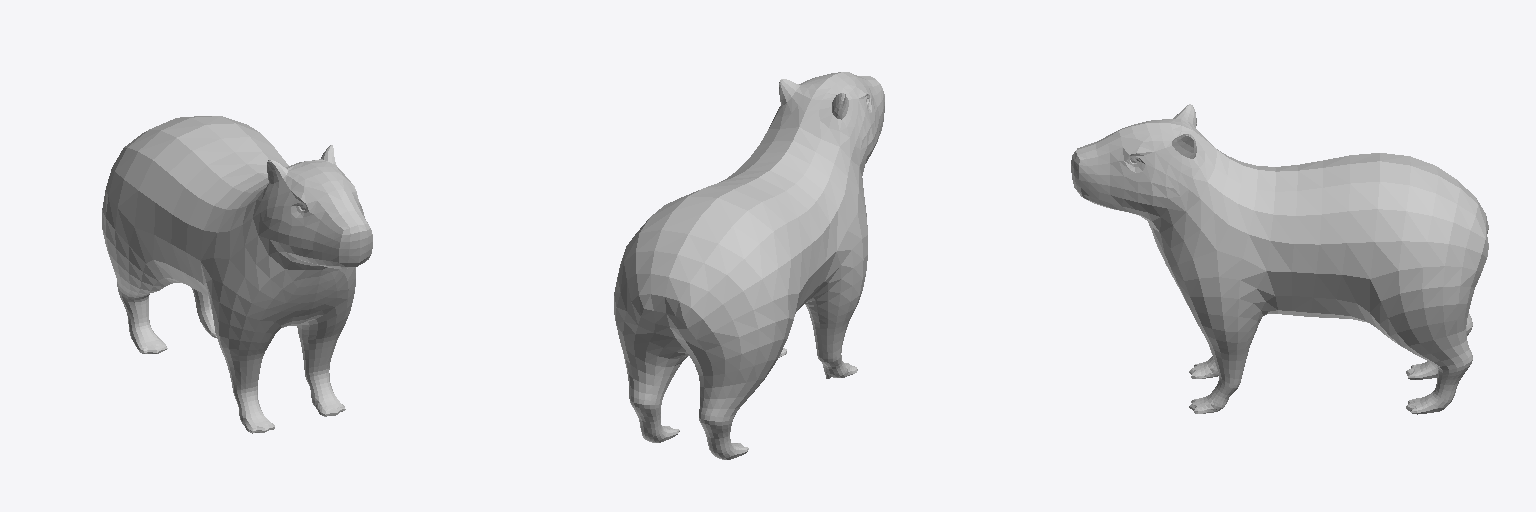
File: capybara.obj
3 renders of one model, left to right at view 1: azimuth 30°, elevation 25°; view 2: azimuth 150°, elevation 25°; view 3: azimuth 270°, elevation 25°, orthographic.
Visible parts, largest first — view 1: Cube; view 2: Cube; view 3: Cube.
Part boxes in pixels (left/top/right/bottom): Cube: left=102, top=116, right=372, bottom=433; Cube: left=614, top=72, right=884, bottom=459; Cube: left=1071, top=104, right=1488, bottom=414.
Bounding box in the file's own units: 0.5922 × 0.9566 × 1.33.